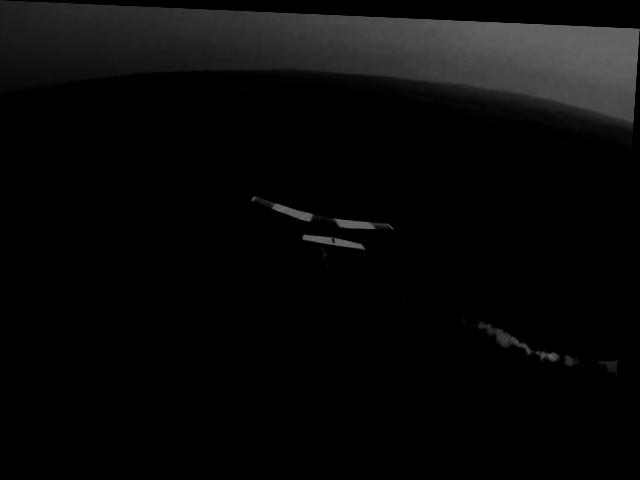hedef: (252, 179, 403, 274)
